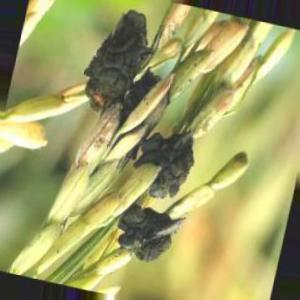Leaf_Scald: (88, 13, 150, 102), (146, 133, 186, 195), (124, 206, 162, 268)
